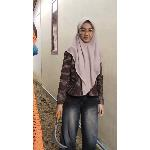Celurit: (50, 105, 70, 150)
